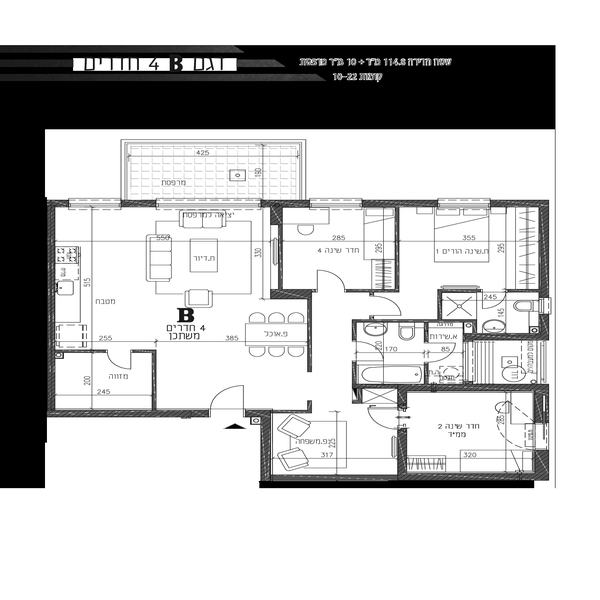door: (206, 383, 250, 414), (363, 406, 404, 432), (353, 334, 385, 366), (367, 294, 405, 320), (313, 265, 347, 293), (480, 286, 508, 314), (104, 348, 133, 374), (426, 340, 456, 364)
room: (46, 197, 287, 355), (136, 293, 317, 414), (257, 379, 411, 491), (395, 384, 552, 485), (393, 198, 547, 297), (267, 198, 403, 295), (346, 314, 477, 393), (44, 340, 159, 414)
wall: (257, 471, 554, 483), (47, 407, 207, 421), (373, 380, 530, 394), (48, 195, 57, 407), (350, 314, 478, 328), (360, 196, 436, 215), (256, 406, 273, 482), (537, 194, 550, 293), (394, 208, 406, 299), (303, 301, 317, 374), (147, 349, 162, 408), (394, 428, 410, 476), (257, 198, 308, 213), (467, 331, 552, 340), (271, 285, 312, 303), (533, 386, 551, 427), (489, 198, 540, 211), (268, 199, 287, 230), (533, 447, 549, 479), (279, 408, 317, 420), (431, 288, 446, 318), (395, 384, 410, 413), (434, 288, 485, 296), (344, 288, 401, 295), (122, 199, 154, 210), (57, 348, 106, 355)
window: (156, 192, 256, 216), (63, 194, 121, 213), (311, 194, 359, 213), (436, 194, 488, 208), (533, 424, 550, 451), (538, 297, 553, 314)
